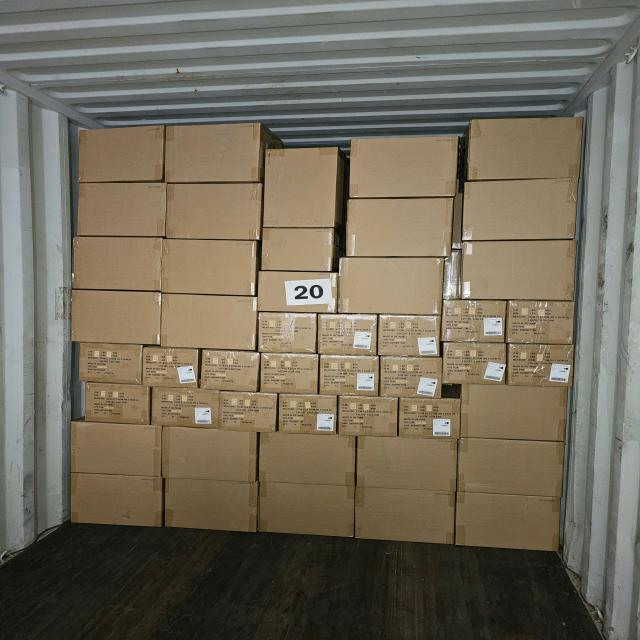Carton: (466, 174, 583, 240), (469, 116, 585, 181), (464, 240, 580, 304), (353, 134, 458, 200), (348, 196, 454, 258), (458, 440, 569, 499), (340, 255, 445, 316), (455, 494, 561, 554), (262, 148, 336, 230), (460, 386, 568, 442), (166, 120, 262, 182), (356, 486, 456, 545), (161, 296, 258, 355), (354, 439, 455, 494), (164, 239, 260, 296), (165, 183, 259, 241), (163, 429, 260, 484), (262, 482, 357, 538), (257, 435, 356, 488), (70, 473, 164, 528), (76, 182, 166, 239), (166, 477, 260, 531), (72, 292, 162, 348), (75, 234, 165, 290), (70, 421, 163, 475), (82, 123, 166, 182), (259, 272, 337, 315), (260, 231, 335, 274), (505, 304, 574, 347), (504, 344, 573, 387), (82, 385, 154, 426), (441, 303, 507, 347), (376, 316, 440, 361), (78, 342, 148, 383), (442, 344, 508, 386), (317, 314, 378, 358), (152, 391, 220, 430), (376, 356, 439, 398), (399, 400, 461, 442), (200, 350, 259, 393), (338, 398, 398, 440), (320, 355, 381, 396), (278, 394, 338, 435), (141, 346, 198, 389), (259, 313, 318, 354), (259, 353, 318, 394), (216, 394, 275, 434)
